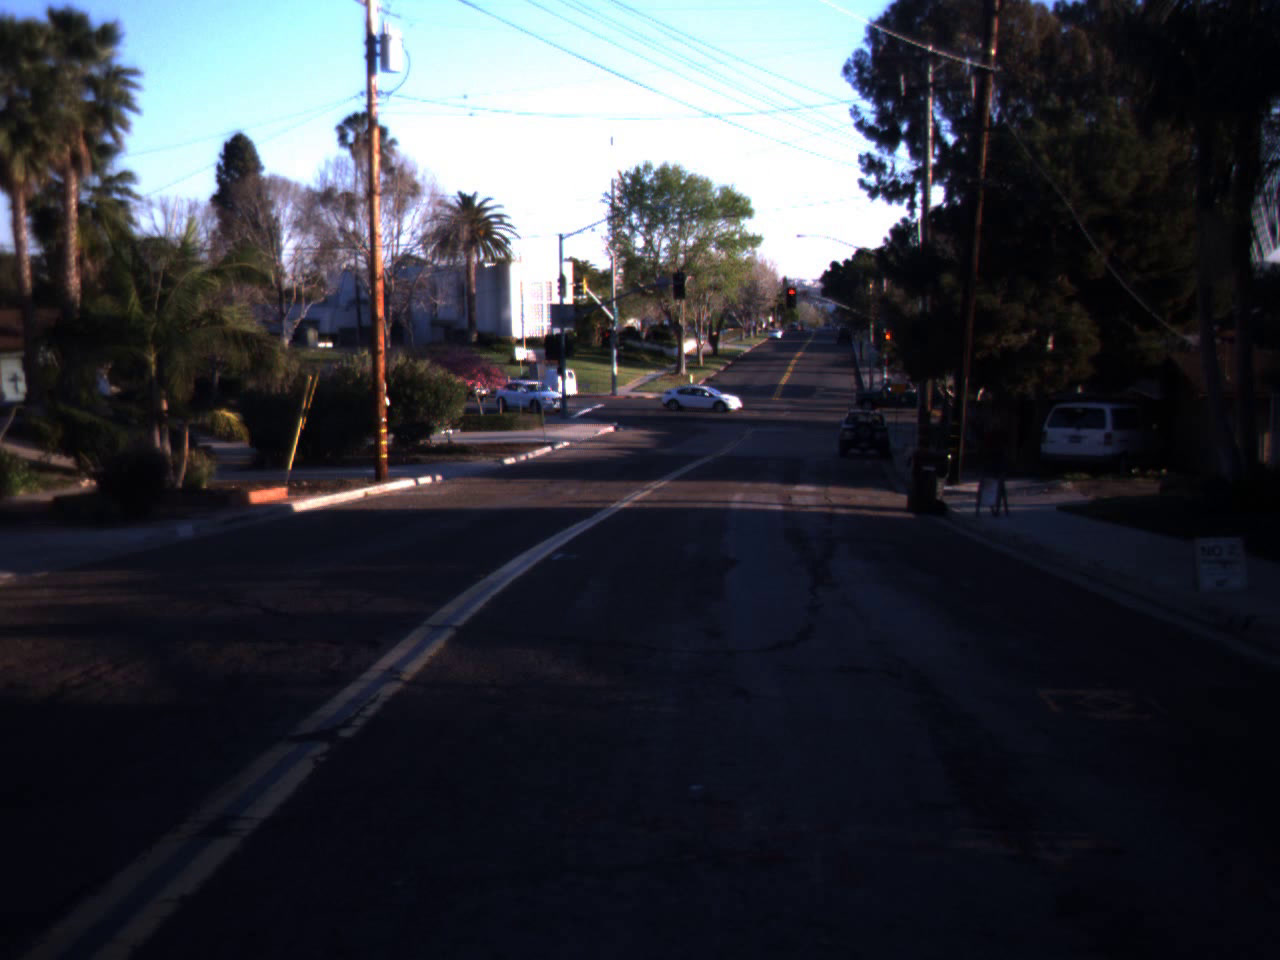stop: (600, 329, 615, 356), (786, 288, 798, 306), (882, 333, 894, 351)
